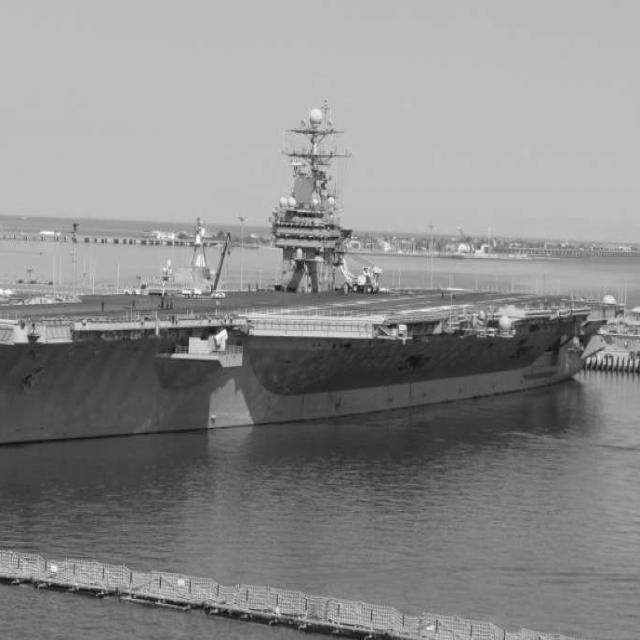Portanaves: (1, 104, 628, 456)
